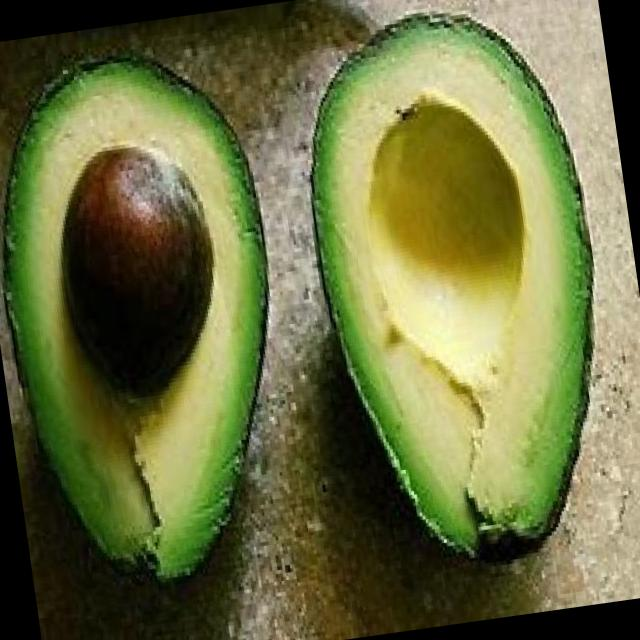avocado: (281, 0, 623, 573), (0, 30, 314, 600)
